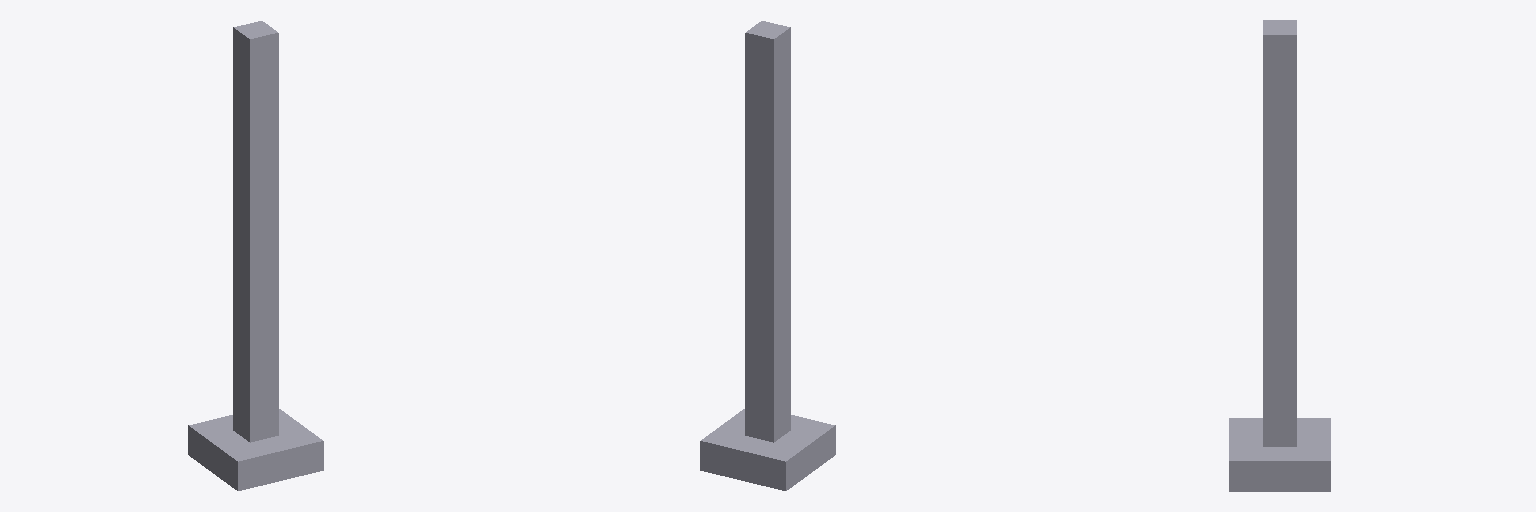
The robot description file, URDF, robot "two_link_arm":
<?xml version="1.0"?>
<robot name="two_link_arm">
  <link name="base_link">
    <visual>
      <geometry><mesh filename="meshes/base_link.obj" scale="1 1 1"/></geometry>
      <material name="alu"><color rgba="0.7 0.7 0.75 1"/></material>
    </visual>
    <collision><geometry><mesh filename="meshes/base_link.obj" scale="1 1 1"/></geometry></collision>
    <inertial>
      <origin xyz="0.00000 0.00000 0.01000"/>
      <mass value="0.05040"/>
      <inertia ixx="1.680000e-05" ixy="-0.000000e+00" ixz="-0.000000e+00"
               iyy="1.680000e-05" iyz="-0.000000e+00" izz="3.024000e-05"/>
    </inertial>
  </link>
  <link name="link1">
    <visual>
      <geometry><mesh filename="meshes/link1.obj" scale="1 1 1"/></geometry>
      <material name="alu"><color rgba="0.7 0.7 0.75 1"/></material>
    </visual>
    <collision><geometry><mesh filename="meshes/link1.obj" scale="1 1 1"/></geometry></collision>
    <inertial>
      <origin xyz="0.00000 0.00000 0.07500"/>
      <mass value="0.04200"/>
      <inertia ixx="8.015000e-05" ixy="-0.000000e+00" ixz="-0.000000e+00"
               iyy="8.015000e-05" iyz="-0.000000e+00" izz="2.800000e-06"/>
    </inertial>
  </link>
  <joint name="shoulder" type="revolute">
    <parent link="base_link"/>
    <child link="link1"/>
    <origin xyz="0 0 0.02" rpy="0 0 0"/>
    <axis xyz="0 1 0"/>
    <limit lower="-1.57" upper="1.57" effort="10" velocity="2.0"/>
  </joint>
  <link name="link2">
    <visual>
      <geometry><mesh filename="meshes/link2.obj" scale="1 1 1"/></geometry>
      <material name="alu"><color rgba="0.7 0.7 0.75 1"/></material>
    </visual>
    <collision><geometry><mesh filename="meshes/link2.obj" scale="1 1 1"/></geometry></collision>
    <inertial>
      <origin xyz="0.00000 0.00000 0.06000"/>
      <mass value="0.03360"/>
      <inertia ixx="4.144000e-05" ixy="-0.000000e+00" ixz="-0.000000e+00"
               iyy="4.144000e-05" iyz="-0.000000e+00" izz="2.240000e-06"/>
    </inertial>
  </link>
  <joint name="elbow" type="revolute">
    <parent link="link1"/>
    <child link="link2"/>
    <origin xyz="0 0 0.15" rpy="0 0 0"/>
    <axis xyz="0 1 0"/>
    <limit lower="-1.57" upper="1.57" effort="10" velocity="2.0"/>
  </joint>
</robot>

--- Render facts (derived) ---
3 views of the same robot in one strip: view 1: azimuth 30°, elevation 25°; view 2: azimuth 150°, elevation 25°; view 3: azimuth 270°, elevation 25° (orthographic).
Model two_link_arm with 3 links and 2 joints (2 revolute), rooted at base_link, posed every joint at zero.
Visible links, largest first — view 1: link1, link2, base_link; view 2: link1, link2, base_link; view 3: link1, link2, base_link.
Boxes of the visible links, x1,y1,x2,y2 form: link1: (233, 207, 278, 442); link2: (233, 21, 278, 218); base_link: (188, 409, 323, 490); link1: (745, 207, 790, 442); link2: (745, 21, 790, 218); base_link: (700, 409, 835, 490); link1: (1263, 218, 1296, 446); link2: (1263, 20, 1296, 217); base_link: (1229, 418, 1330, 491).
Size in the robot's own frame: 0.06 by 0.06 by 0.29 metres.
3 mesh visuals loaded from 3 distinct referenced files (3 OBJ).
